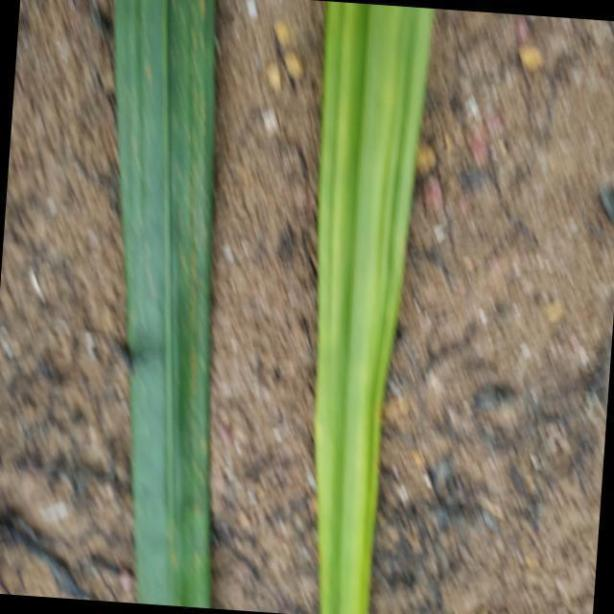nitrogen: (307, 0, 438, 614)
